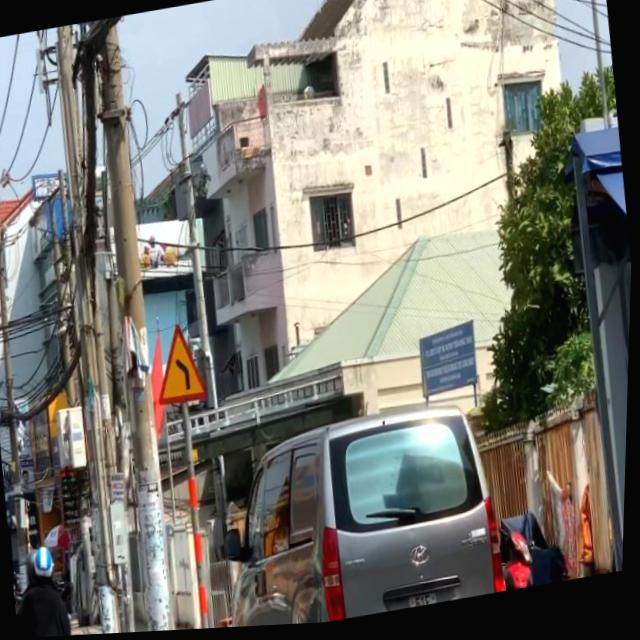cho ngoat nguy hiem vong ben trai: (151, 319, 212, 409)
